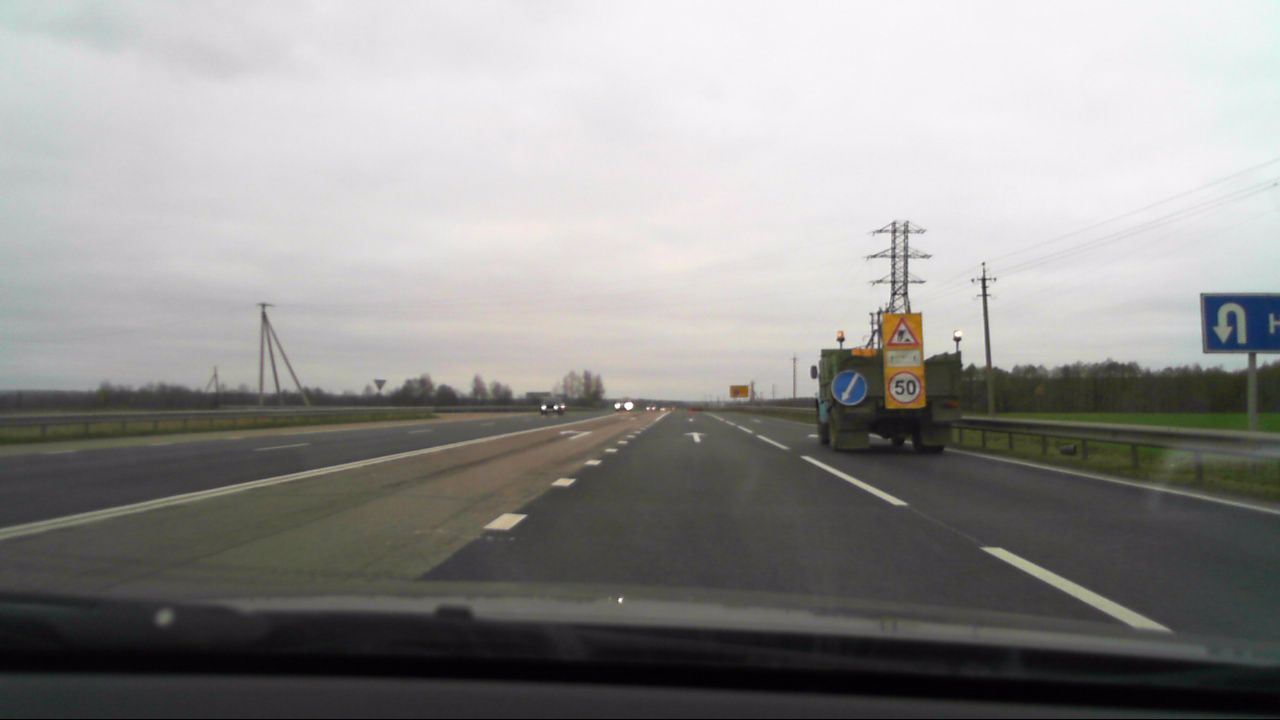U-turn: (1201, 293, 1257, 352)
